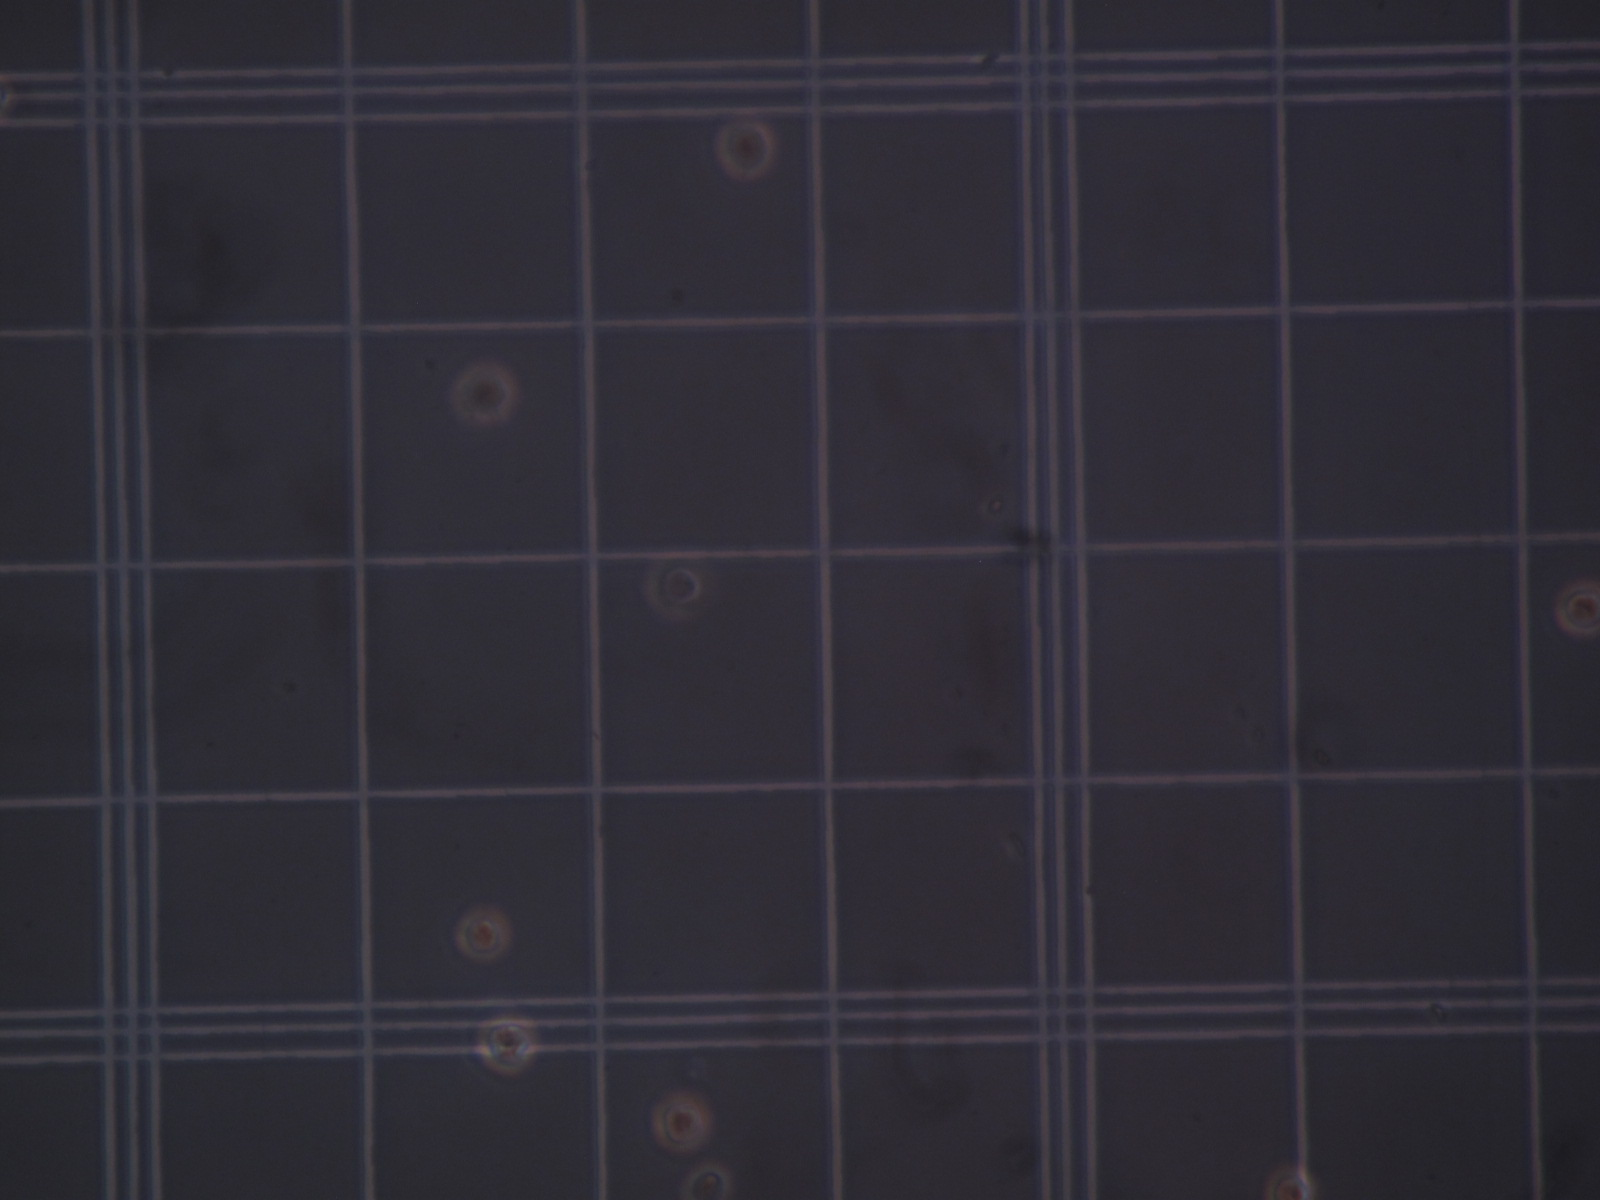hemo: (451, 361, 517, 424), (475, 1015, 538, 1075), (643, 560, 703, 620), (651, 1092, 711, 1153), (716, 120, 774, 179), (454, 906, 511, 962), (1555, 580, 1600, 637), (682, 1163, 732, 1200), (1264, 1167, 1315, 1200)
